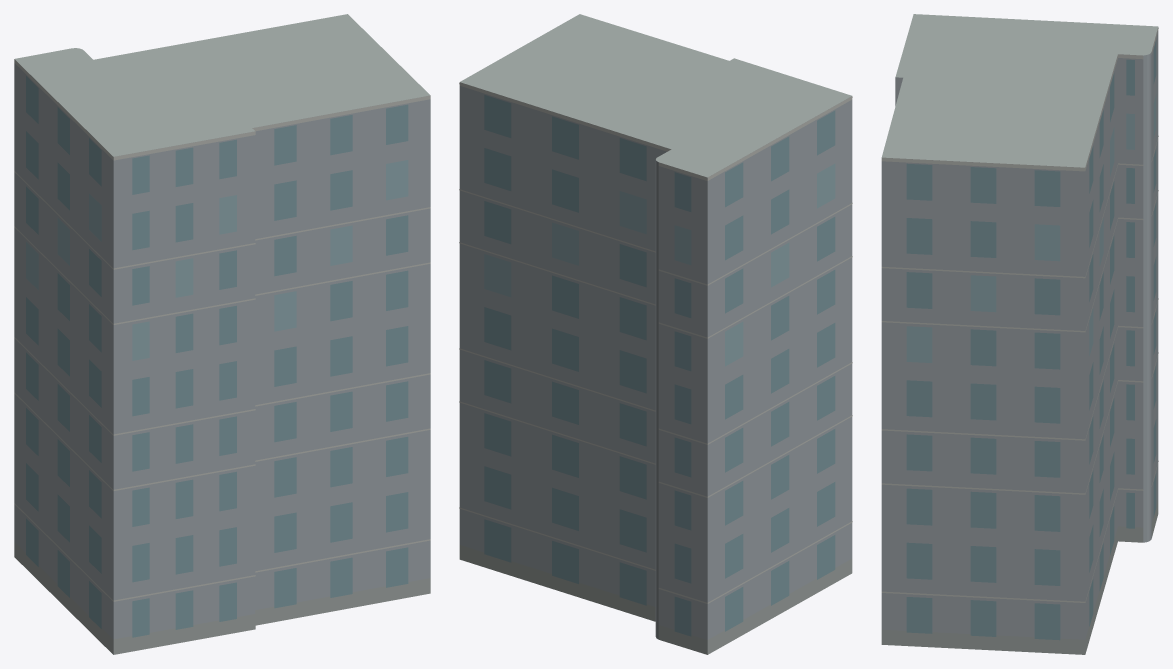
File: survey-upis-32942268.glb
3 renders of one model, left to right at view 1: azimuth 30°, elevation 25°; view 2: azimuth 150°, elevation 25°; view 3: azimuth 270°, elevation 25°, orthographic. The views are drawn at different scales.
Visible parts, largest first — view 1: survey-upis-32942268.tmp; view 2: survey-upis-32942268.tmp; view 3: survey-upis-32942268.tmp.
Boxes of the visible parts, left/top/right/bottom form: survey-upis-32942268.tmp: left=14, top=14, right=430, bottom=654; survey-upis-32942268.tmp: left=459, top=14, right=852, bottom=654; survey-upis-32942268.tmp: left=881, top=14, right=1158, bottom=654.
Bounding box in the file's own units: 21.61 × 31.9 × 16.45.
